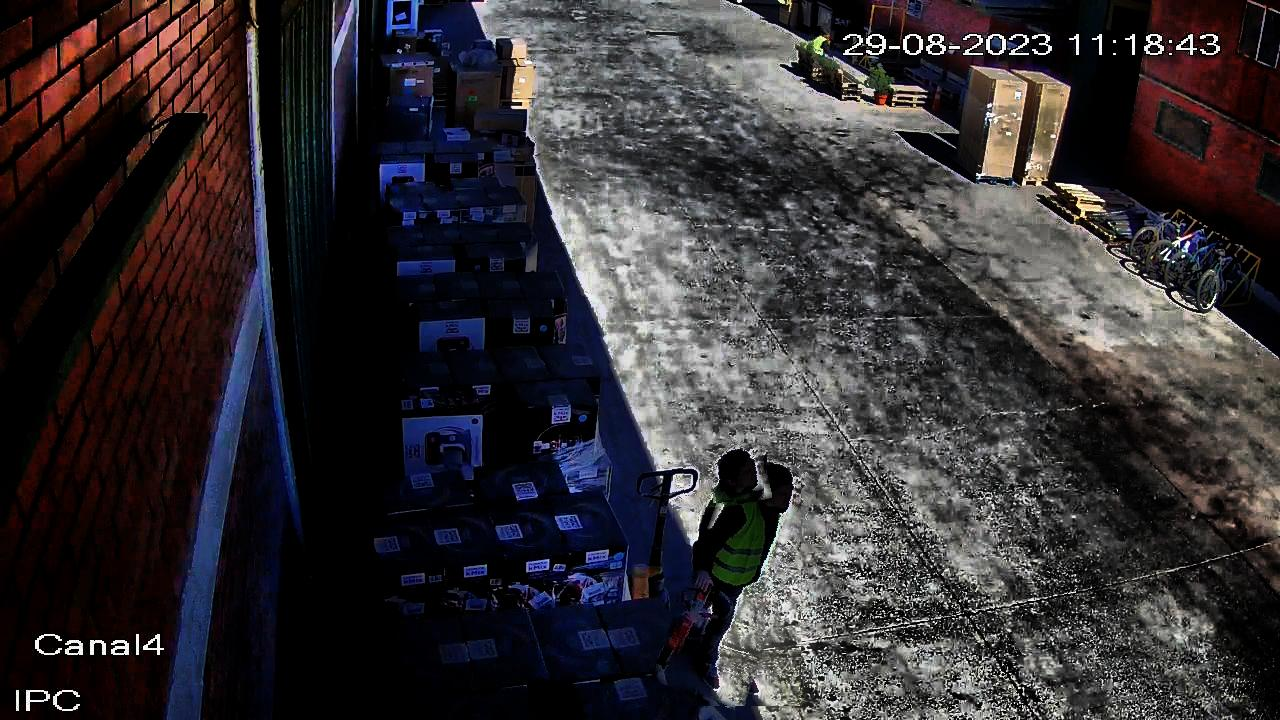con-chaleco: (693, 481, 765, 594), (807, 33, 831, 59)
persona: (671, 446, 801, 707), (806, 27, 834, 81)
sin-casco: (713, 445, 769, 505), (815, 27, 831, 40)
